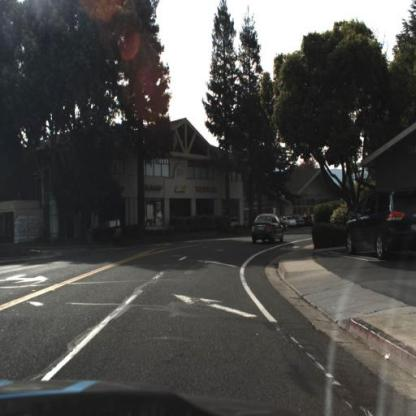car: (343, 181, 416, 267), (250, 209, 288, 249)
